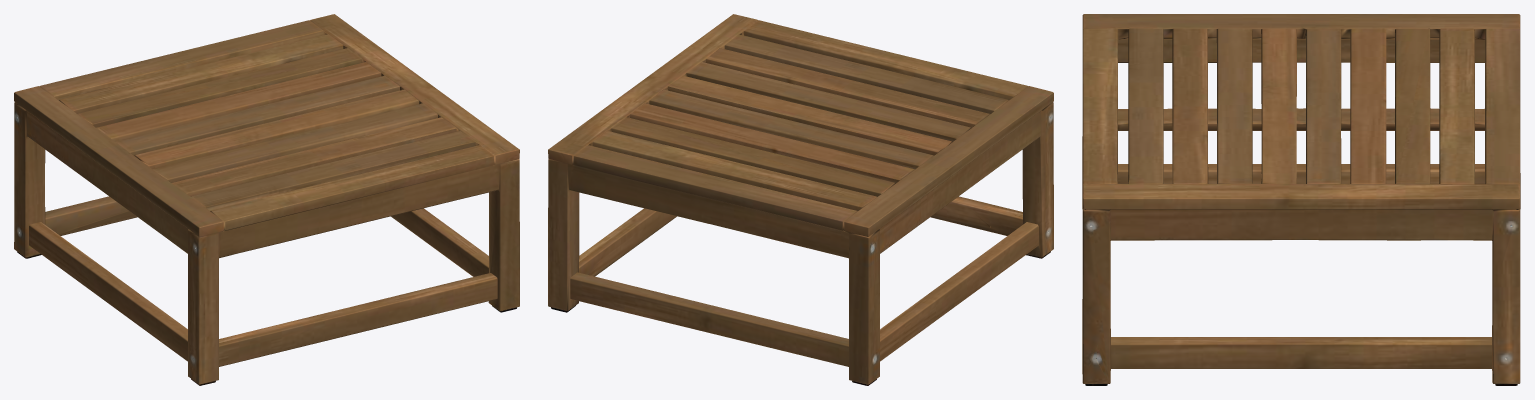
Rendered from 04 - NÄMMARÖ Seat sec for modular sofa, outdoor - light brown stained 63x63 cm.glb.
3 renders of one model, left to right at view 1: azimuth 30°, elevation 25°; view 2: azimuth 150°, elevation 25°; view 3: azimuth 270°, elevation 25°, orthographic. The views are drawn at different scales.
Parts seen in each view (by area): view 1: ProcessedMeshNode; view 2: ProcessedMeshNode; view 3: ProcessedMeshNode.
Part boxes in pixels (x1=…): ProcessedMeshNode: x1=14, y1=14, x2=519, y2=385; ProcessedMeshNode: x1=548, y1=14, x2=1053, y2=385; ProcessedMeshNode: x1=1082, y1=14, x2=1520, y2=385.
Size of the model in its own units: 0.6308 by 0.3007 by 0.6308.
1 material, 1 textured.
